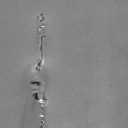slag inclusion: (30, 80, 48, 128), (34, 12, 48, 73)
